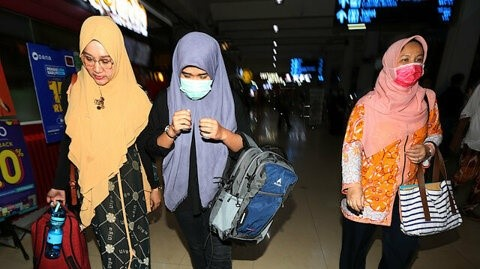face_no_mask: (78, 28, 123, 88)
face_with_mask: (173, 43, 217, 97), (386, 39, 426, 84)
